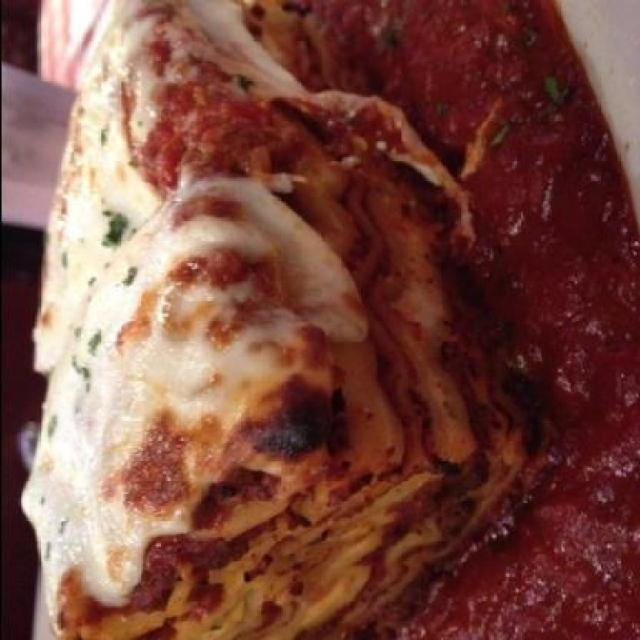Pasta: (26, 13, 542, 616)
